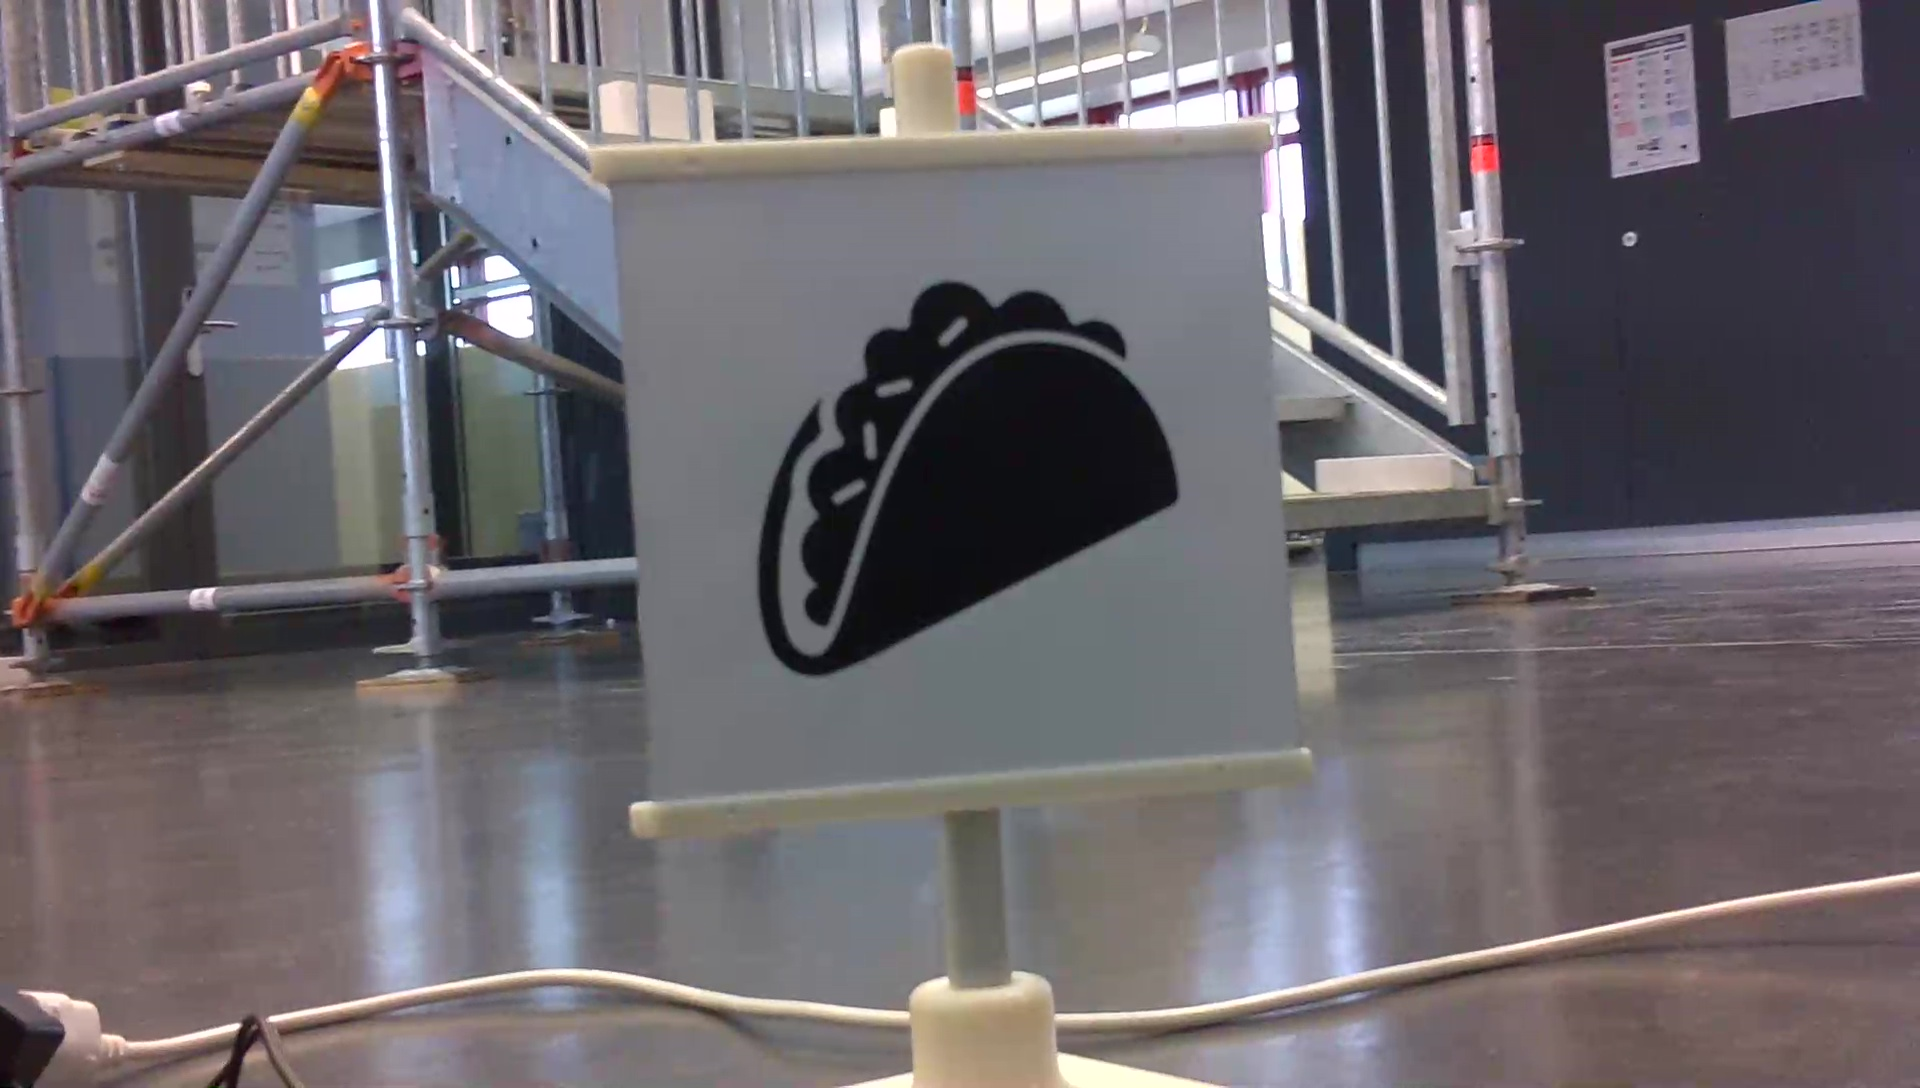brick: (1317, 455, 1451, 488)
taco: (742, 270, 1189, 687)
